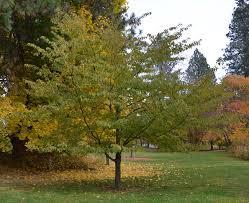tree: (18, 3, 218, 186)
